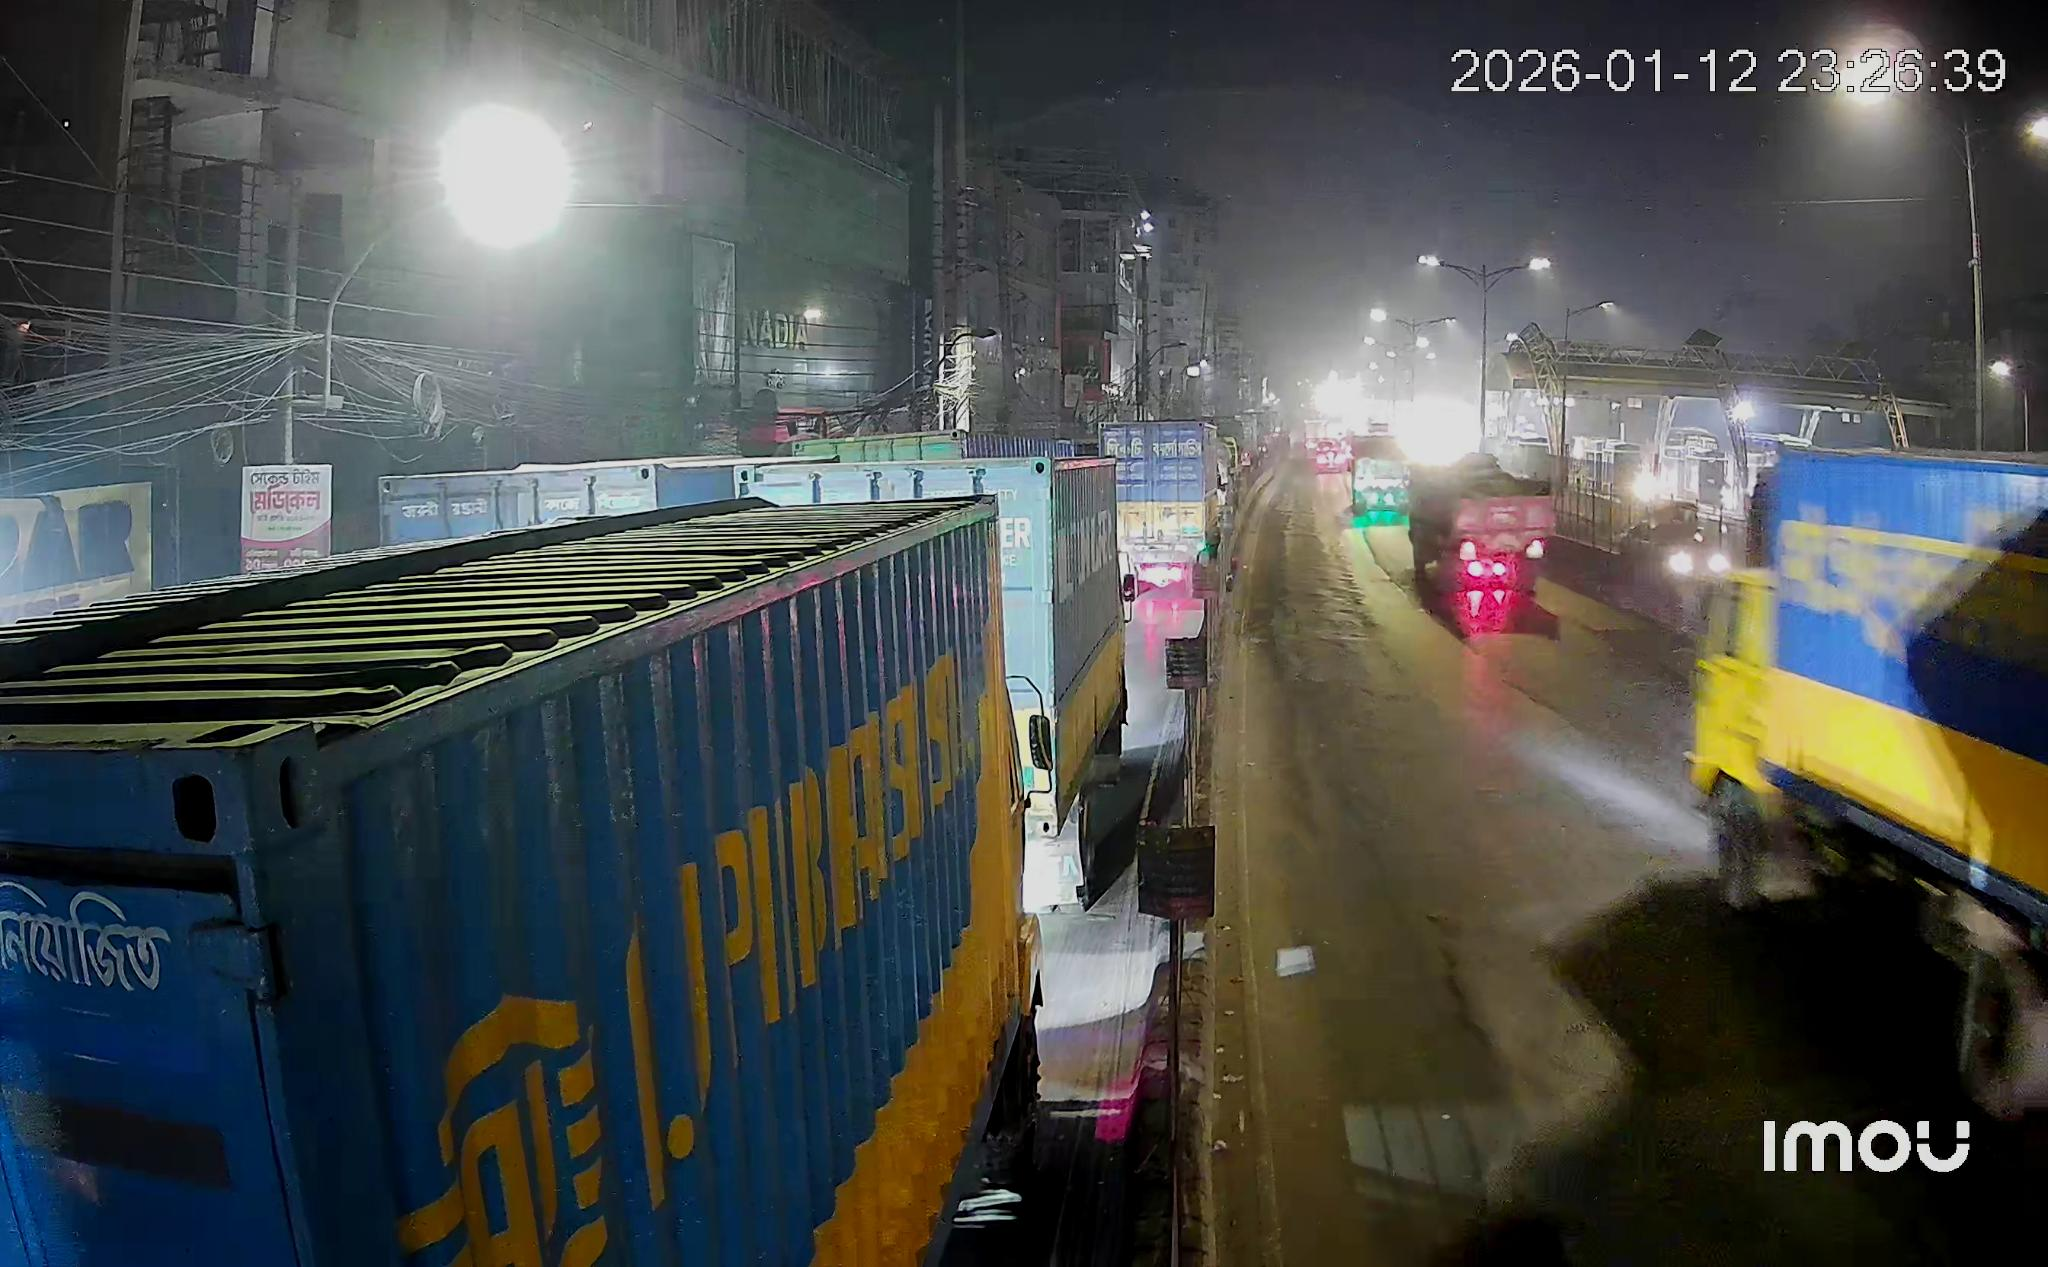Truck: (0, 495, 1042, 1267), (1687, 449, 2047, 1116), (753, 455, 1137, 911), (1100, 420, 1230, 597), (1407, 452, 1552, 607), (1352, 435, 1409, 516)
